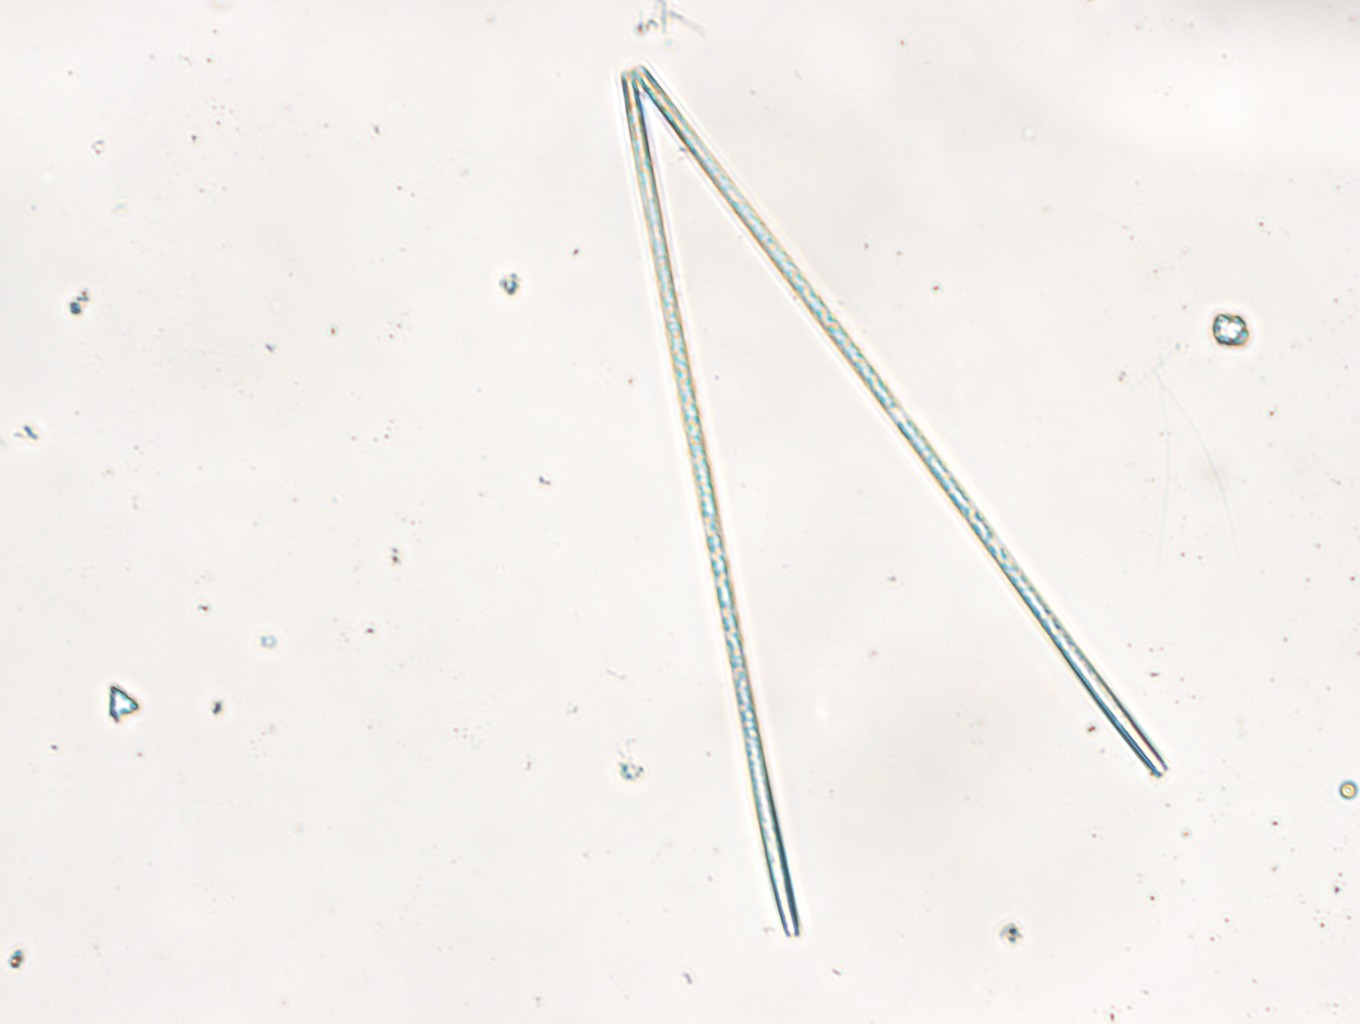thalassionema frauenfeldii: (618, 65, 1168, 937)
